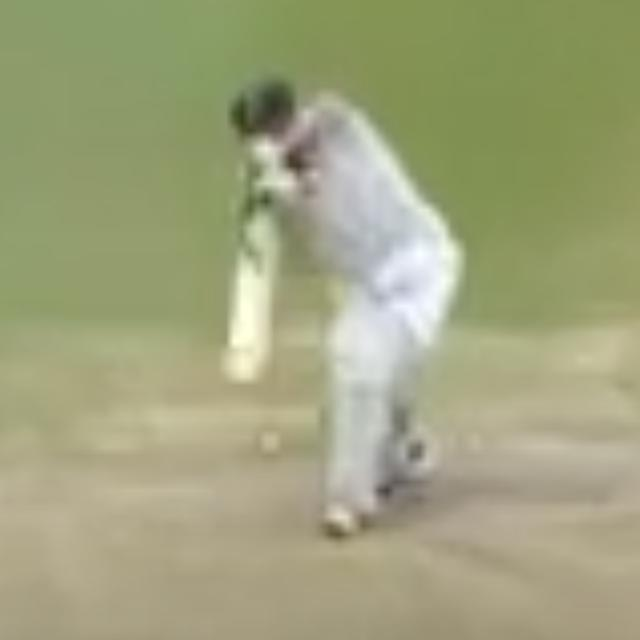bat: (210, 170, 280, 384)
